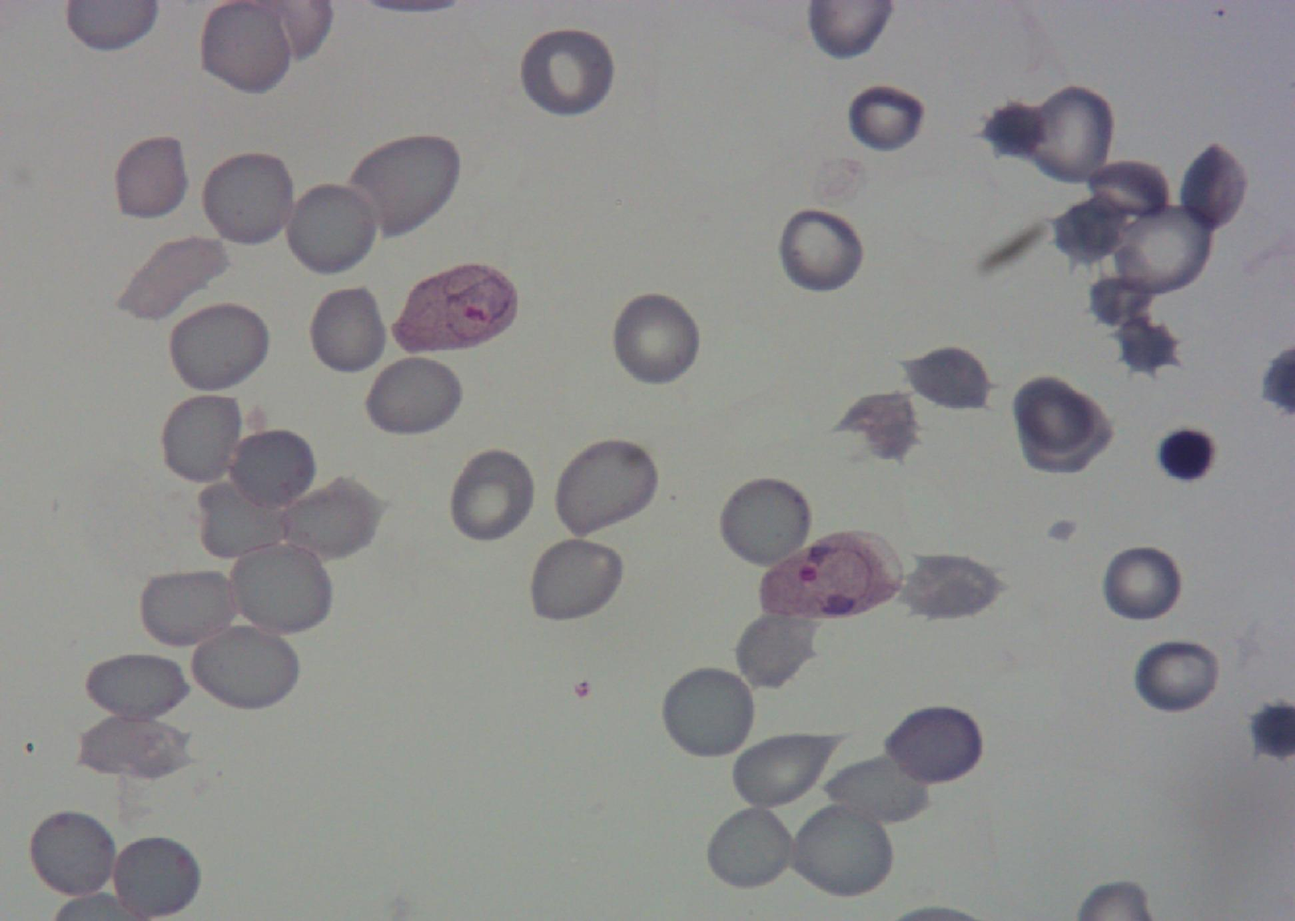Infected: (760, 529, 899, 622), (393, 260, 518, 354)
Uninfected: (348, 134, 464, 236), (789, 800, 895, 900), (227, 537, 333, 636), (189, 619, 300, 711), (552, 439, 658, 535), (664, 661, 759, 767), (171, 296, 278, 387), (1022, 85, 1117, 187), (200, 149, 297, 248), (1112, 200, 1214, 294), (282, 180, 379, 277), (516, 25, 616, 119), (445, 445, 538, 546), (608, 290, 703, 388), (122, 236, 226, 322), (717, 475, 814, 567), (360, 354, 464, 439), (526, 536, 626, 624), (285, 474, 384, 561), (137, 566, 239, 649), (198, 1, 288, 95), (26, 808, 119, 898), (774, 205, 866, 295), (157, 391, 246, 484), (107, 834, 201, 919), (77, 710, 191, 780), (821, 750, 928, 824), (195, 475, 290, 558), (306, 284, 390, 377), (898, 551, 1003, 623), (1131, 636, 1224, 716), (1024, 389, 1110, 475), (709, 804, 798, 887), (84, 651, 188, 722), (888, 709, 981, 787), (1098, 543, 1184, 625), (230, 430, 318, 509), (1176, 143, 1252, 234), (831, 389, 923, 464), (732, 609, 817, 690), (735, 735, 829, 808), (1087, 158, 1171, 237), (904, 344, 994, 417), (111, 135, 190, 218), (843, 79, 927, 154), (1013, 376, 1094, 452), (1055, 190, 1130, 263), (981, 101, 1051, 162), (1085, 272, 1157, 330), (1114, 310, 1177, 373), (1156, 423, 1216, 479)
